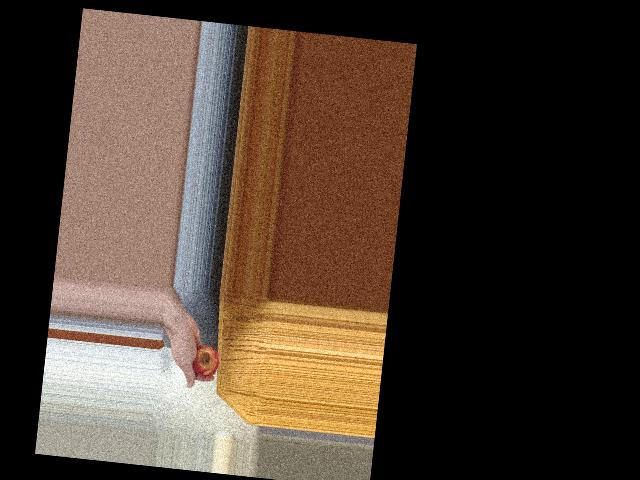apple: (187, 342, 221, 379)
